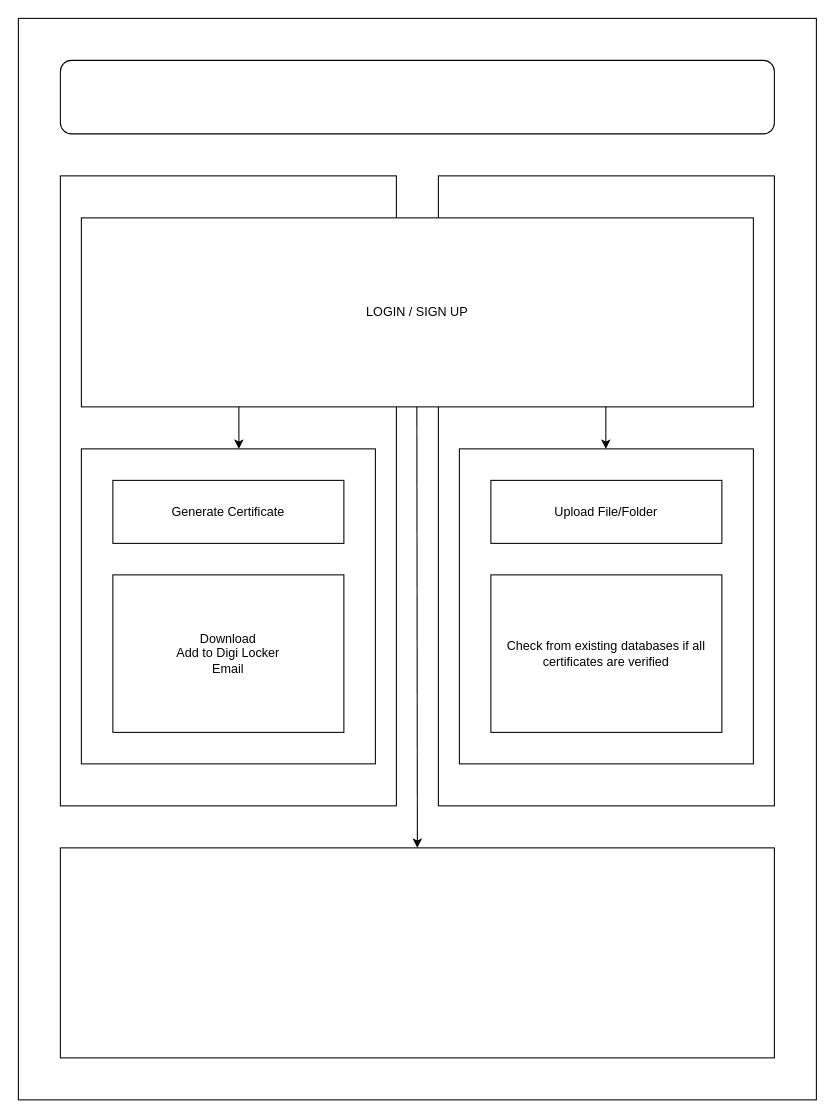
Image size: 835x1118. Some labels were removed from this diagram. The shapes that lost their labels are listed below. From the top down, each one's centre as x and y in pixels, then its label:
At point 416,96: "WEB PORTAL".
At point 416,952: "A search Bar for searching of certificates issued and to alter their authority.".
